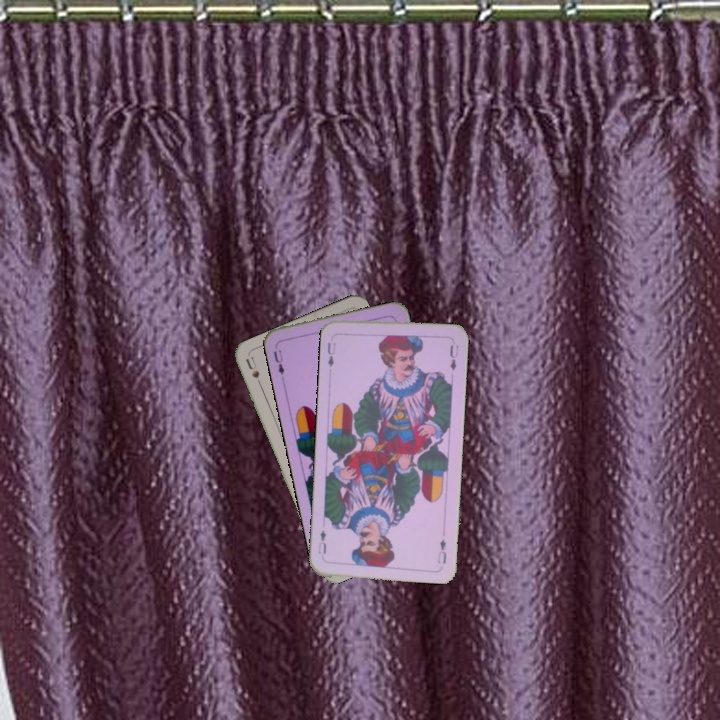EU: (269, 346, 287, 382), (433, 535, 449, 566), (323, 338, 338, 370)
SU: (242, 354, 266, 393)
